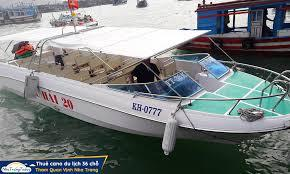Ship: (1, 29, 290, 155), (181, 1, 290, 55)
